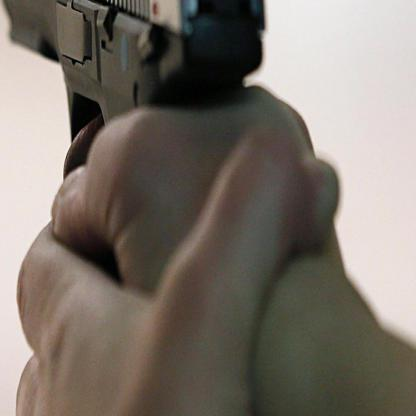gun: (0, 0, 268, 160)
